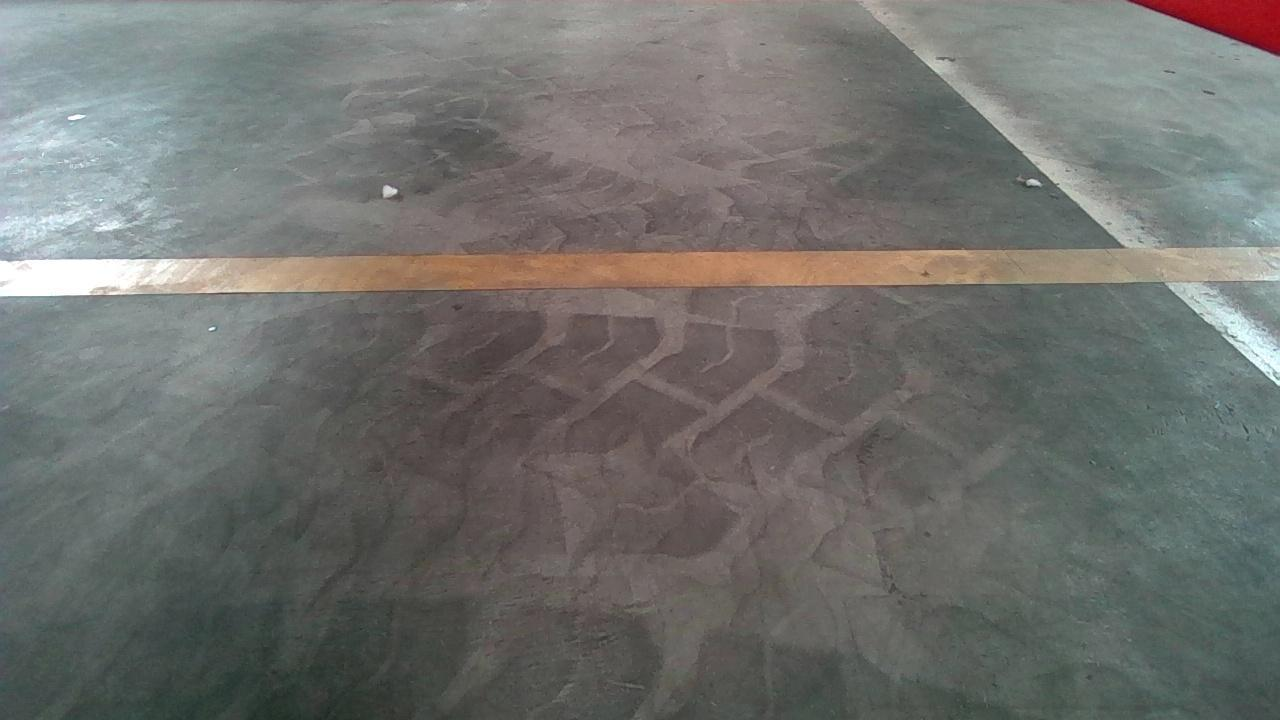yellow_line: (3, 239, 1280, 296)
